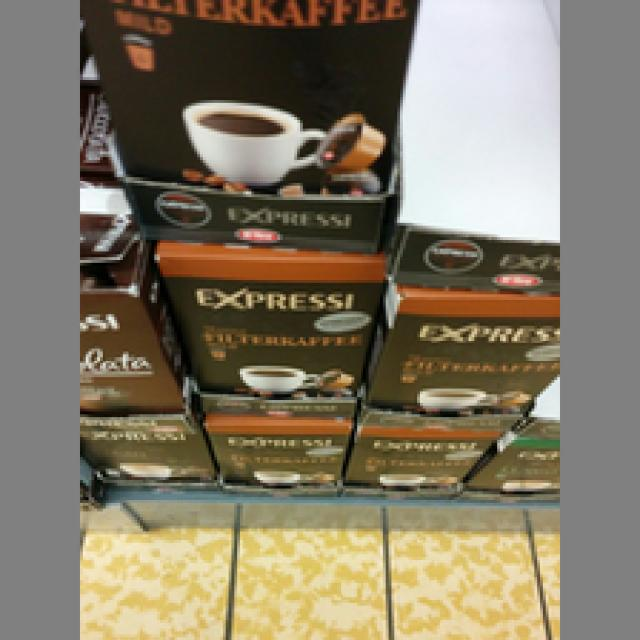groceries: (74, 0, 417, 189), (148, 237, 383, 403), (357, 280, 554, 414)
